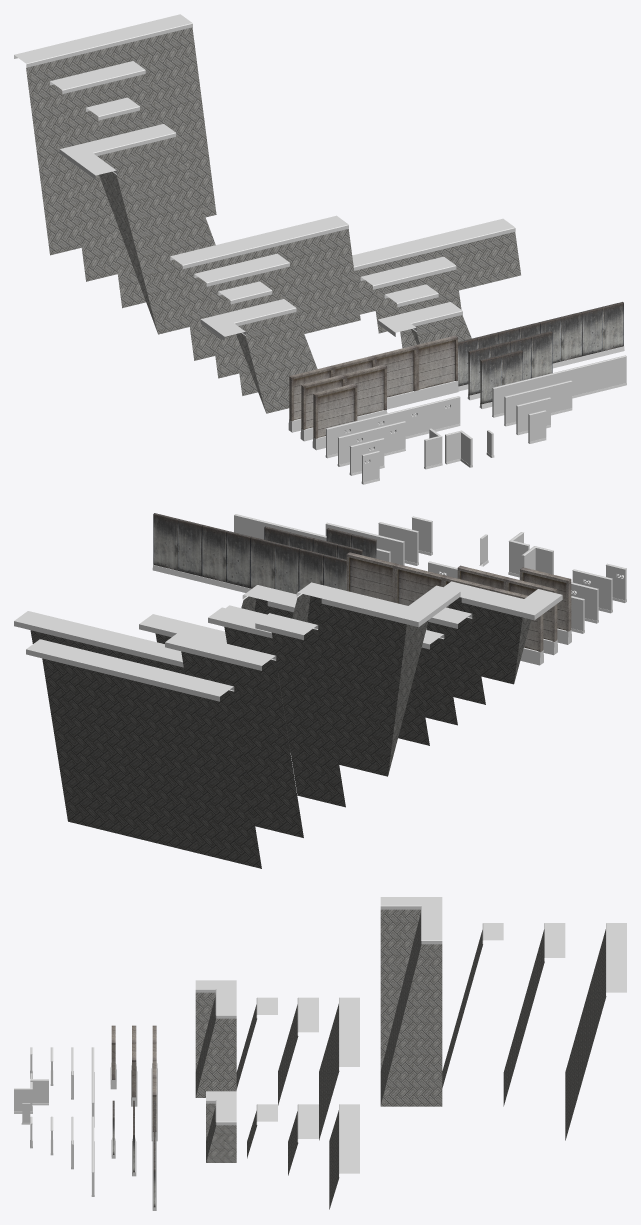
File: ConcreteWalls.fbx
3 views of the same model, one above another, from view 1: azimuth 30°, elevation 25°; view 2: azimuth 150°, elevation 25°; view 3: azimuth 270°, elevation 25° (orthographic). The views are drawn at different scales.
Visible parts, largest first — view 1: KenchiBlock_H8000_W8000, KenchiBlock_H4000_W8000, KenchiBlock_H8000_W4000, KenchiBlock_H2000_W8000, ConcreteFence_H2500_W8000, KenchiBlock_H8000_InnerCorner, ConcreteTileWall_H2200_W8000, KenchiBlock_H8000_OuterCorner, KenchiBlock_H8000_W1000, KenchiBlock_H4000_W4000, KenchiBlock_H2000_W4000, KenchiBlock_H8000_W2000 (+20 smaller); view 2: KenchiBlock_H8000_W8000, KenchiBlock_H8000_W4000, ConcreteTileWall_H2200_W8000, KenchiBlock_H8000_W2000, KenchiBlock_H8000_InnerCorner, KenchiBlock_H8000_OuterCorner, ConcreteFence_H2500_W8000, KenchiBlock_H8000_W1000, KenchiBlock_H2000_W8000, KenchiBlock_H4000_W2000, KenchiBlock_H4000_W8000, KenchiBlock_H4000_W4000 (+20 smaller); view 3: KenchiBlock_H8000_OuterCorner, KenchiBlock_H8000_InnerCorner, KenchiBlock_H8000_W8000, KenchiBlock_H4000_W8000, KenchiBlock_H4000_OuterCorner, KenchiBlock_H8000_W4000, KenchiBlock_H2000_W8000, KenchiBlock_H4000_InnerCorner, KenchiBlock_H4000_W4000, KenchiBlock_H2000_OuterCorner, KenchiBlock_H8000_W2000, KenchiBlock_H2000_W4000 (+10 smaller).
Part boxes in pixels (x1=…): KenchiBlock_H8000_W8000: x1=14, y1=14, x2=216, y2=255; KenchiBlock_H4000_W8000: x1=170, y1=215, x2=360, y2=360; KenchiBlock_H8000_W4000: x1=50, y1=61, x2=151, y2=281; KenchiBlock_H2000_W8000: x1=352, y1=218, x2=520, y2=314; ConcreteFence_H2500_W8000: x1=288, y1=335, x2=458, y2=432; KenchiBlock_H8000_InnerCorner: x1=59, y1=134, x2=157, y2=333; ConcreteTileWall_H2200_W8000: x1=458, y1=302, x2=624, y2=391; KenchiBlock_H8000_OuterCorner: x1=143, y1=124, x2=215, y2=329; KenchiBlock_H8000_W1000: x1=122, y1=129, x2=178, y2=334; KenchiBlock_H4000_W4000: x1=194, y1=253, x2=294, y2=378; KenchiBlock_H2000_W4000: x1=360, y1=256, x2=461, y2=333; KenchiBlock_H8000_W2000: x1=86, y1=97, x2=145, y2=308; KenchiBlock_H8000_W8000: x1=26, y1=639, x2=261, y2=868; KenchiBlock_H8000_W4000: x1=165, y1=632, x2=303, y2=837; ConcreteTileWall_H2200_W8000: x1=152, y1=513, x2=346, y2=594; KenchiBlock_H8000_W2000: x1=255, y1=613, x2=345, y2=807; KenchiBlock_H8000_InnerCorner: x1=346, y1=585, x2=460, y2=775; KenchiBlock_H8000_OuterCorner: x1=278, y1=582, x2=363, y2=770; ConcreteFence_H2500_W8000: x1=346, y1=552, x2=543, y2=665; KenchiBlock_H8000_W1000: x1=321, y1=588, x2=387, y2=776; KenchiBlock_H2000_W8000: x1=14, y1=611, x2=184, y2=674; KenchiBlock_H4000_W2000: x1=427, y1=607, x2=485, y2=704; KenchiBlock_H4000_W8000: x1=208, y1=607, x2=429, y2=745; KenchiBlock_H4000_W4000: x1=417, y1=630, x2=457, y2=725; KenchiBlock_H8000_OuterCorner: x1=380, y1=931, x2=442, y2=1106; KenchiBlock_H8000_InnerCorner: x1=380, y1=897, x2=442, y2=1070; KenchiBlock_H8000_W8000: x1=565, y1=923, x2=626, y2=1140; KenchiBlock_H4000_W8000: x1=319, y1=997, x2=359, y2=1140; KenchiBlock_H4000_OuterCorner: x1=195, y1=1006, x2=236, y2=1097; KenchiBlock_H8000_W4000: x1=503, y1=923, x2=565, y2=1106; KenchiBlock_H2000_W8000: x1=329, y1=1104, x2=359, y2=1209; KenchiBlock_H4000_InnerCorner: x1=195, y1=980, x2=236, y2=1071; KenchiBlock_H4000_W4000: x1=278, y1=997, x2=318, y2=1105; KenchiBlock_H2000_OuterCorner: x1=206, y1=1113, x2=236, y2=1162; KenchiBlock_H8000_W2000: x1=442, y1=923, x2=503, y2=1087; KenchiBlock_H2000_W4000: x1=288, y1=1104, x2=318, y2=1175.
Bounding box in the file's own units: 19 × 8 × 29.85.
